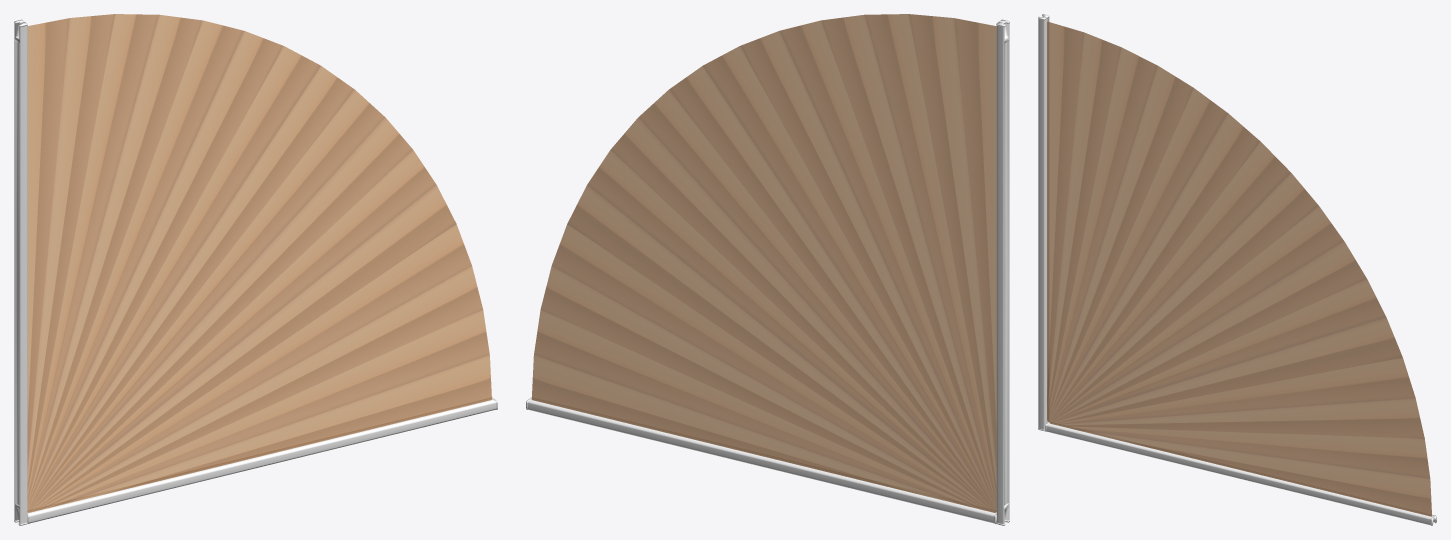
3 views of the same model, side by side, from view 1: azimuth 30°, elevation 25°; view 2: azimuth 150°, elevation 25°; view 3: azimuth 330°, elevation 25° (orthographic). The views are drawn at different scales.
Parts seen in each view (by area): view 1: Circle.001, Cube.001, Cube.012; view 2: Circle.001, Cube.001, Cube.012; view 3: Circle.001, Cube.001, Cube.012.
Part boxes in pixels (x1,y1,x2,y2): Circle.001: (27,14,491,512); Cube.001: (14,23,27,524); Cube.012: (27,398,496,523); Circle.001: (531,14,996,512); Cube.001: (996,23,1009,524); Cube.012: (527,398,996,523); Circle.001: (1047,21,1431,516); Cube.001: (1038,17,1049,429); Cube.012: (1046,422,1434,525).
Bounding box in the file's own units: 0.9995 × 1 × 0.0219.
2 materials, 1 textured.
